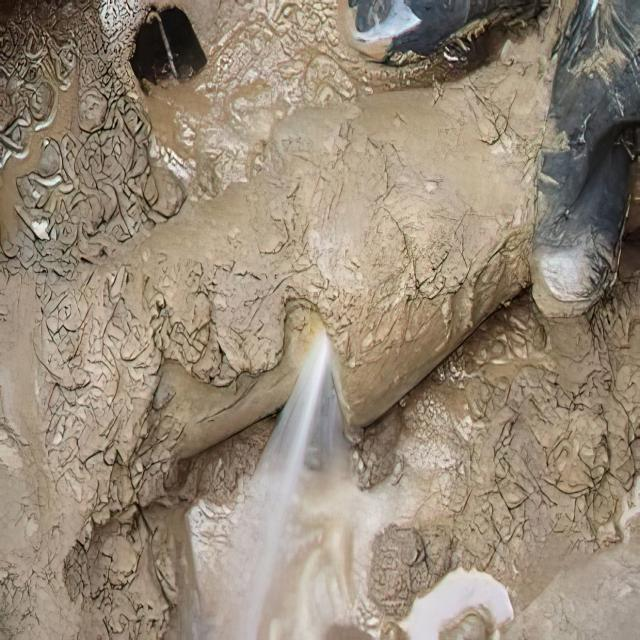leak: (188, 331, 352, 638)
